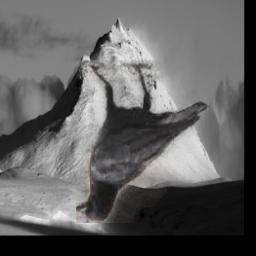Crow: (76, 61, 209, 224)
